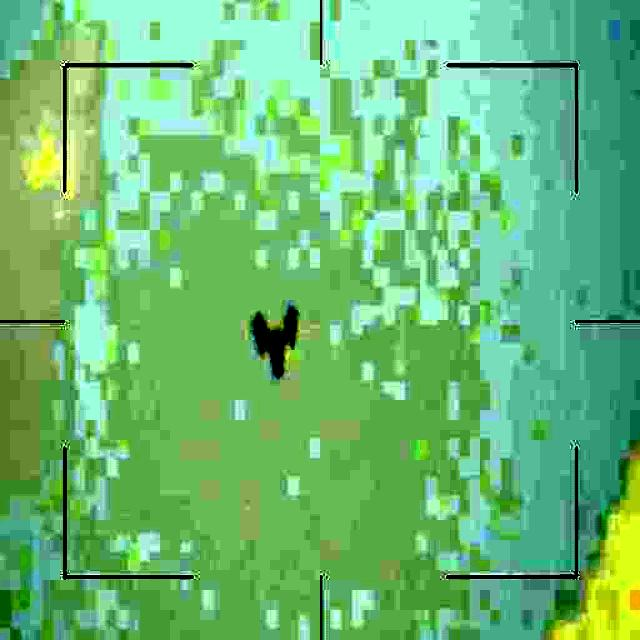bird: (252, 300, 304, 381)
